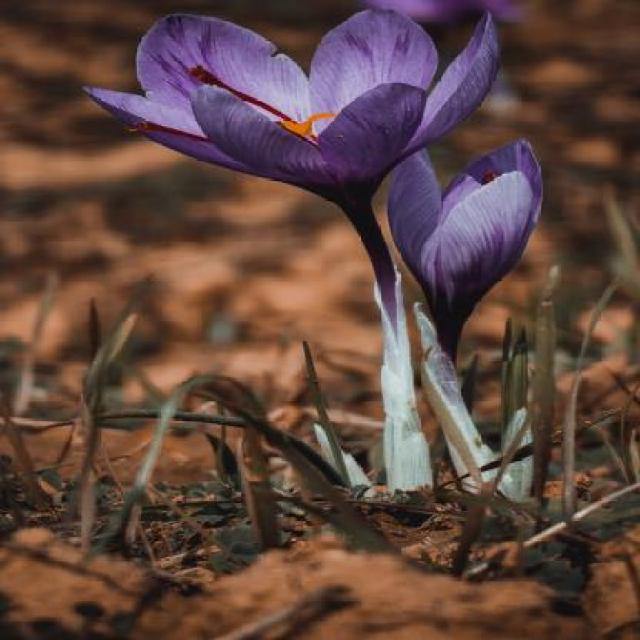Flower: (78, 5, 504, 196), (382, 135, 544, 334)
stigma: (186, 66, 294, 119)
